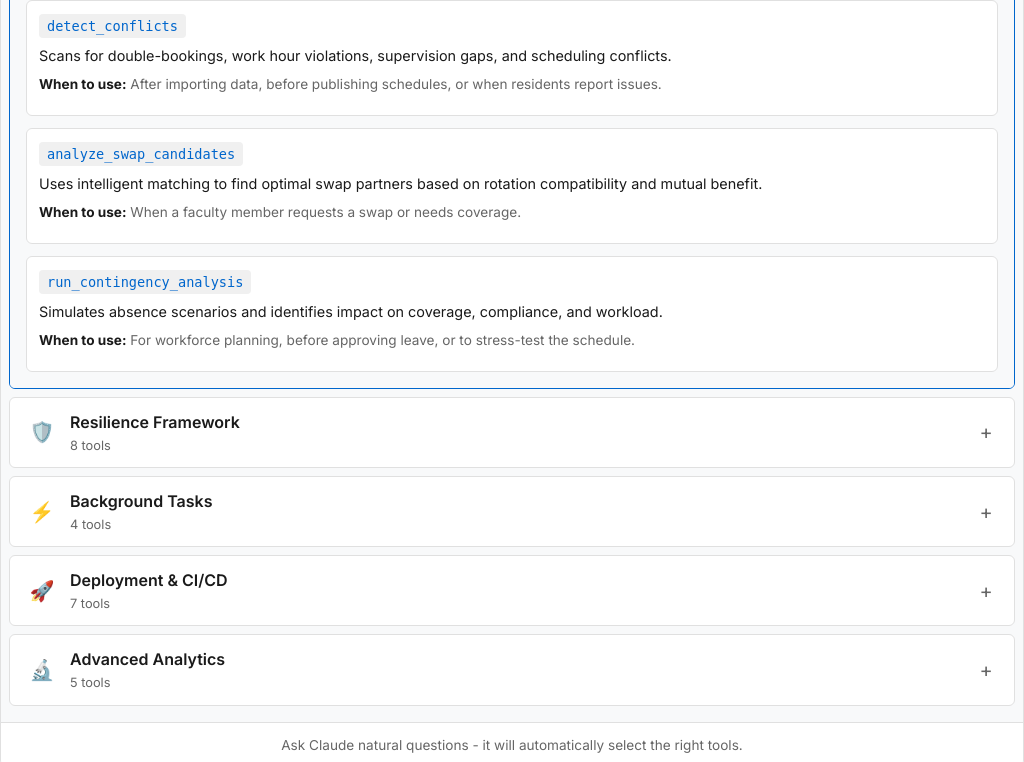
MCPCapabilitiesPanel › Category Expansion › should only expand one category at a time
(page scrolled)
Check: the text "check_utilization_threshold" is not shown
# Click second category
Click the button "🛡️ Resilience Framework 8 tools +": (155, 422) [10,398,1014,467]
(page scrolled)
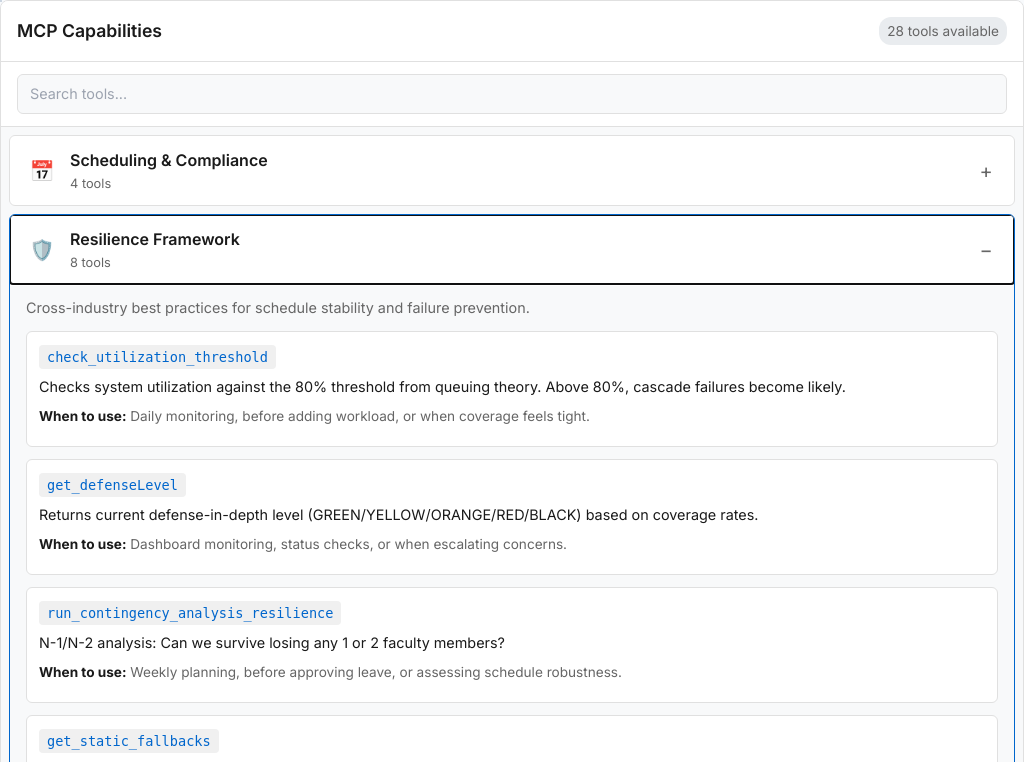
Check: the text "check_utilization_threshold" is shown, box [39,345,276,369]
